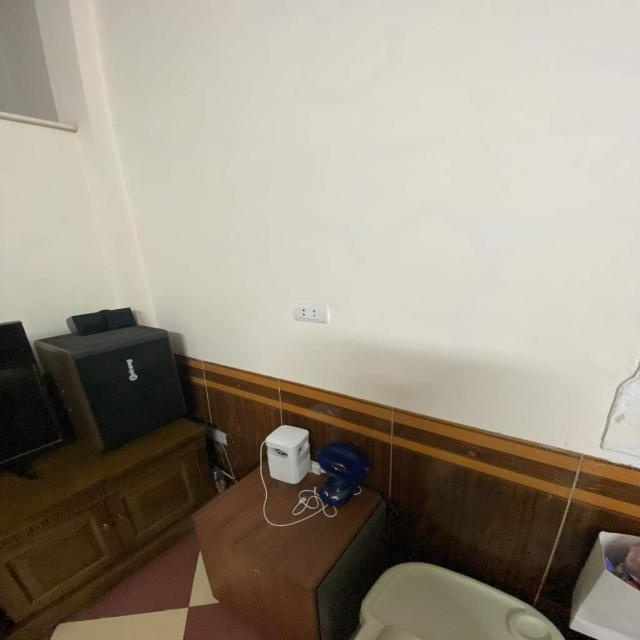outlet: (293, 303, 328, 324)
